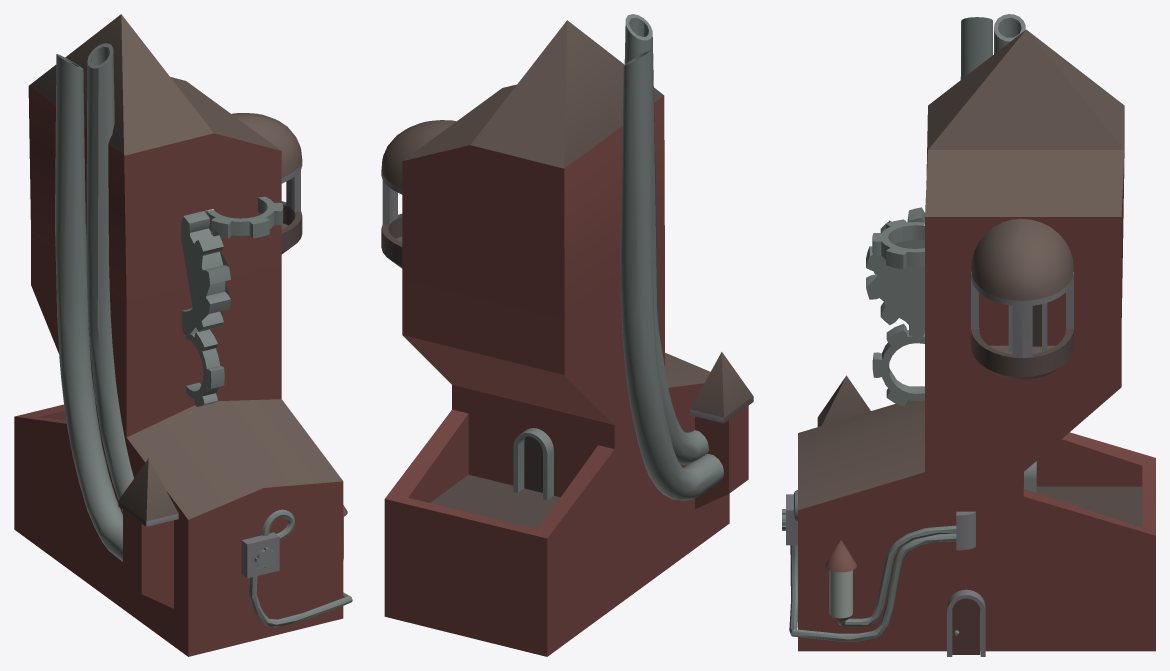
File: double_chimney_house 1.fbx
The picture shows the model from 3 angles, left to right: view 1: azimuth 30°, elevation 25°; view 2: azimuth 150°, elevation 25°; view 3: azimuth 270°, elevation 25°; orthographic projection. The views are drawn at different scales.
Visible parts, largest first — view 1: house.004; view 2: house.004; view 3: house.004.
Boxes of the visible parts, bbox=[...] form: house.004: bbox=[14, 14, 352, 656]; house.004: bbox=[381, 14, 753, 656]; house.004: bbox=[782, 14, 1155, 656].
Size of the model in its own units: 1277 by 2684 by 1605.
Materials: 1 (1 with a texture image).
